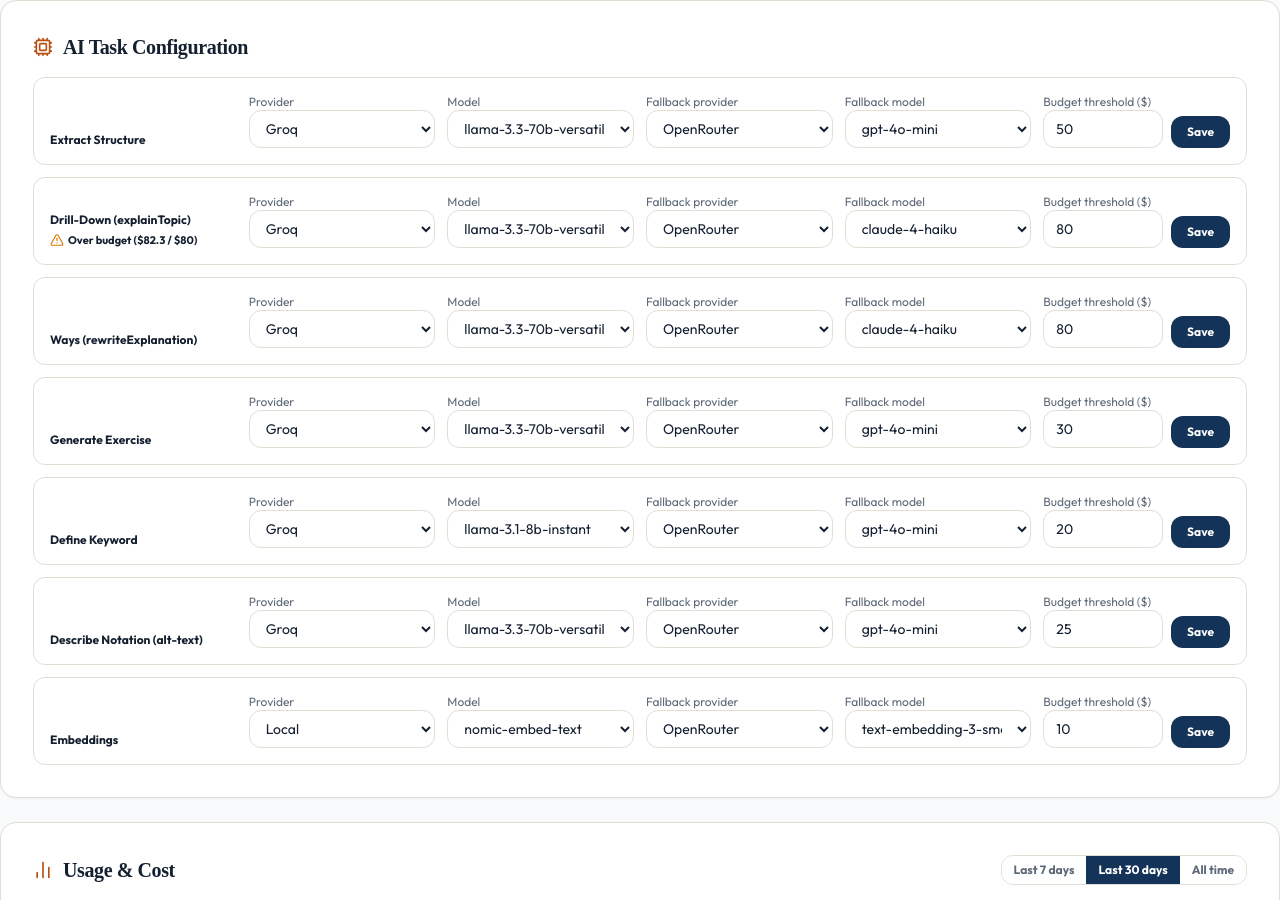
Test: AiConfiguration › shows a brief "Saved!" confirmation immediately after a successful save
What coordinates should you click on to do the following:
click the 5th button "Save"
I would click on:
 (1200, 532)
Its box is [1171, 516, 1230, 548].
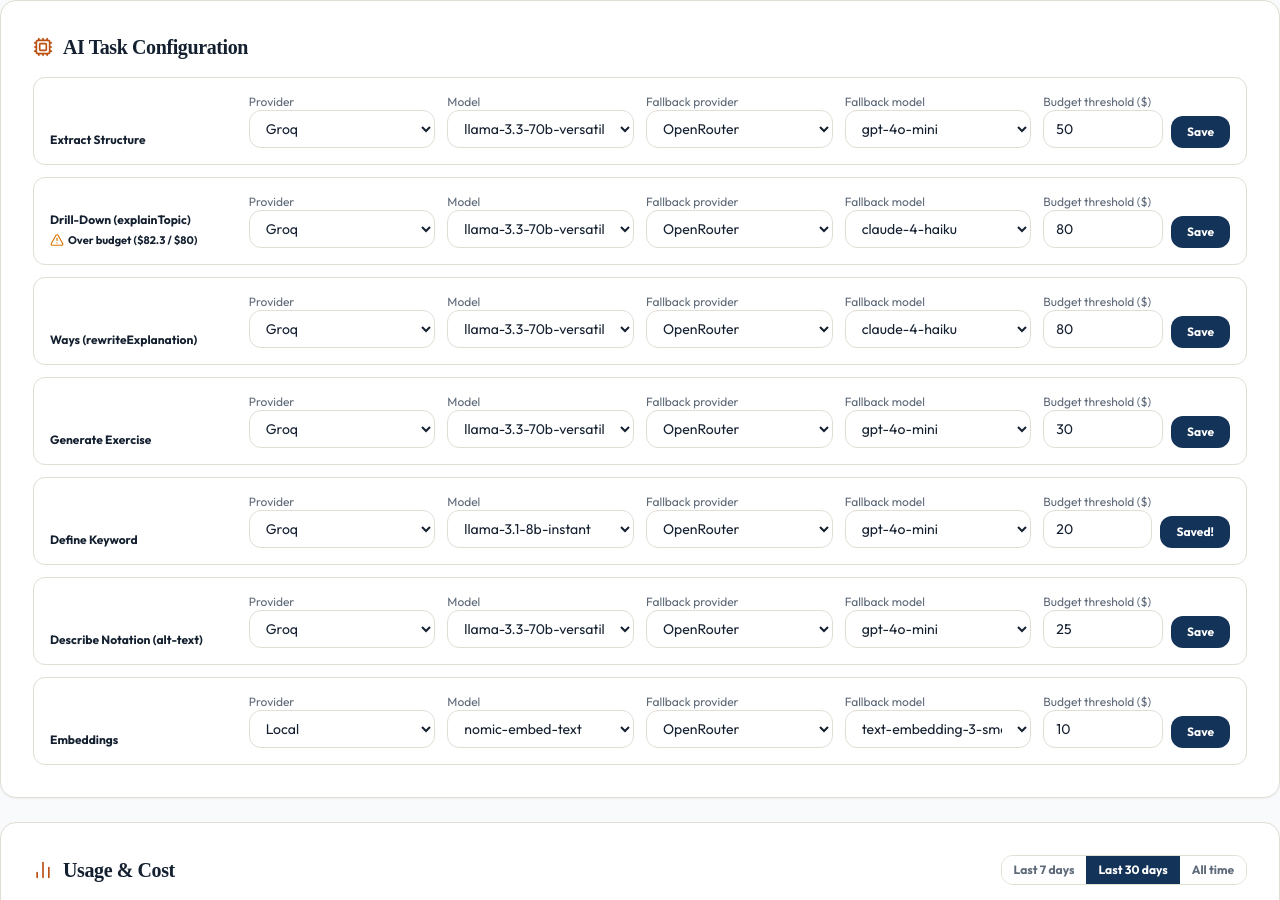
Expected: the button "Saved!" is shown, [1160, 516, 1230, 548]
